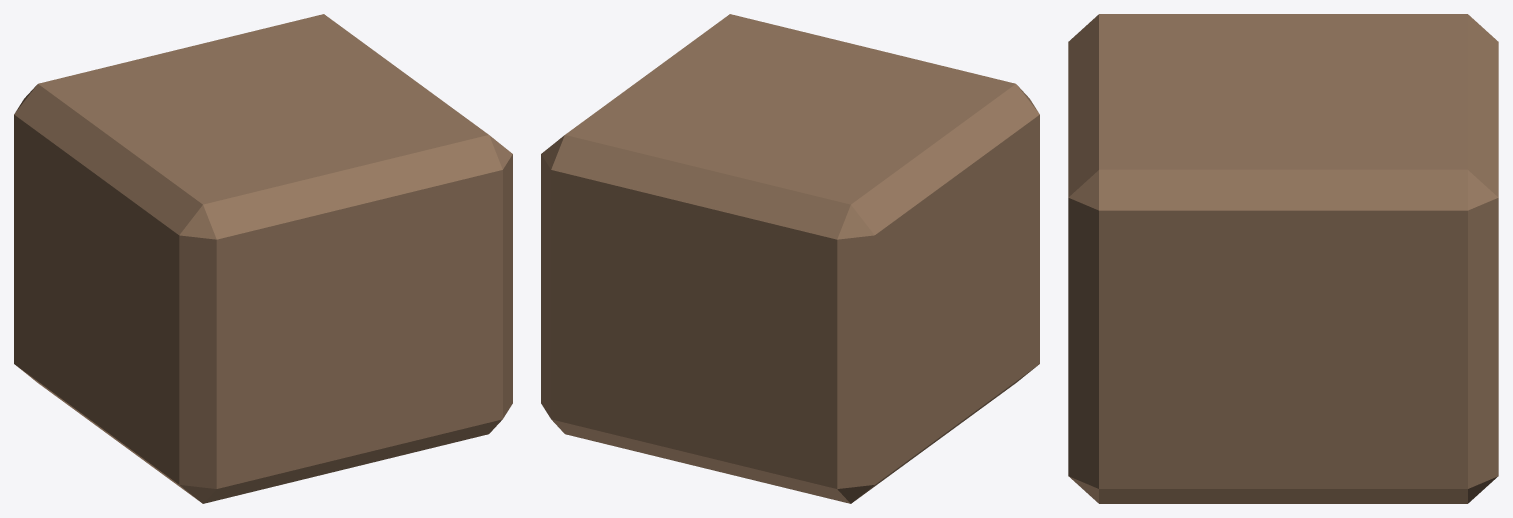
File: town_anvil.glb
The picture shows the model from 3 angles, left to right: view 1: azimuth 30°, elevation 25°; view 2: azimuth 150°, elevation 25°; view 3: azimuth 270°, elevation 25°; orthographic projection. The views are drawn at different scales.
Visible parts, largest first — view 1: town_anvil_0; view 2: town_anvil_0; view 3: town_anvil_0.
Boxes of the visible parts, x1,y1,x2,y2 form: town_anvil_0: (14,14,512,503); town_anvil_0: (541,14,1039,503); town_anvil_0: (1068,14,1498,503).
Bounding box in the file's own units: 2 × 1.71 × 2.
